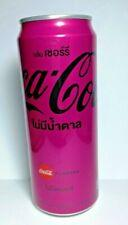metal: (19, 16, 98, 216)
